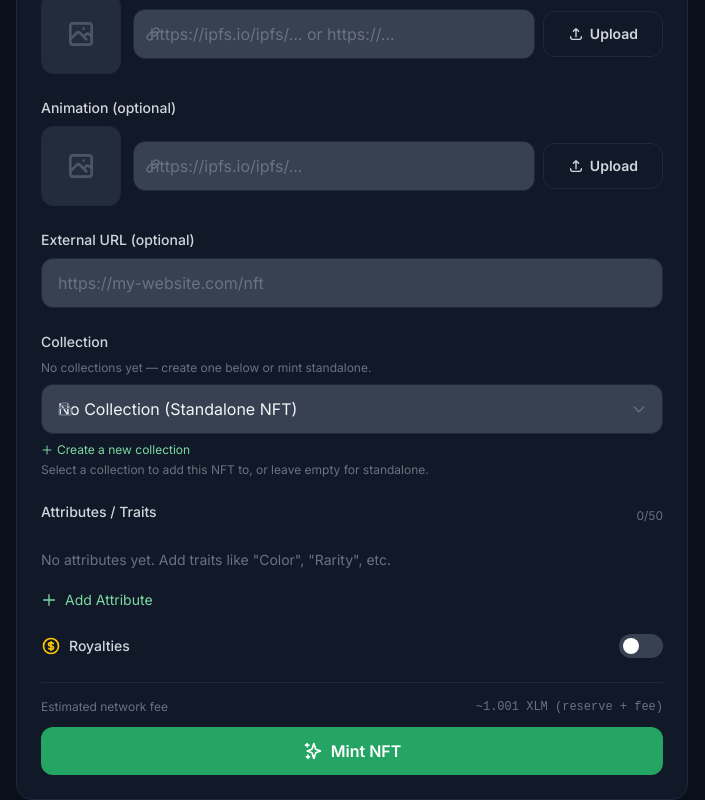
Test: MintForm › shows validation errors for empty required fields
(page scrolled)
Click the button "Mint NFT": [352, 751] box [41,727,663,775]
(page scrolled)
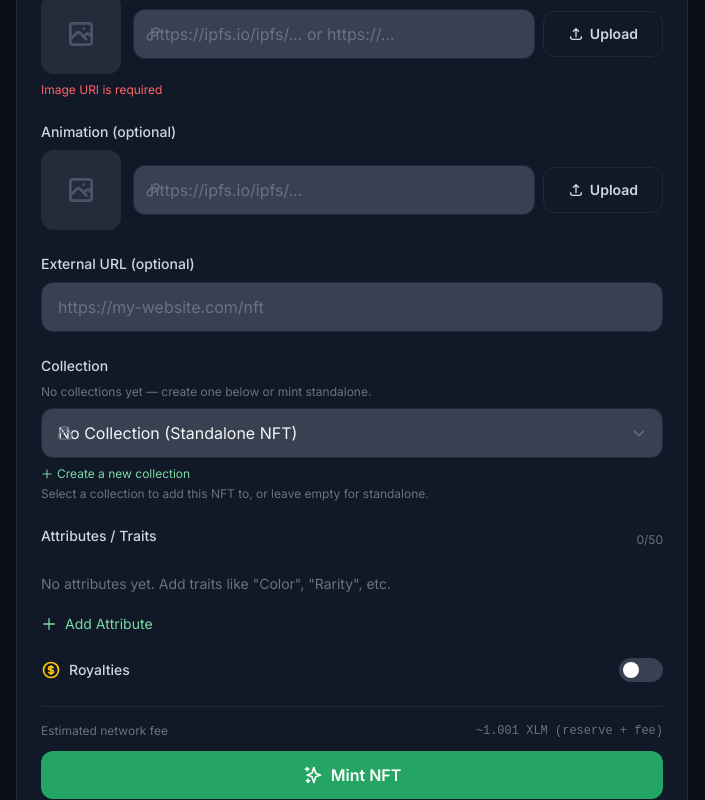
Expected: the text "Image URI is required" is shown, [41,82,162,97]
